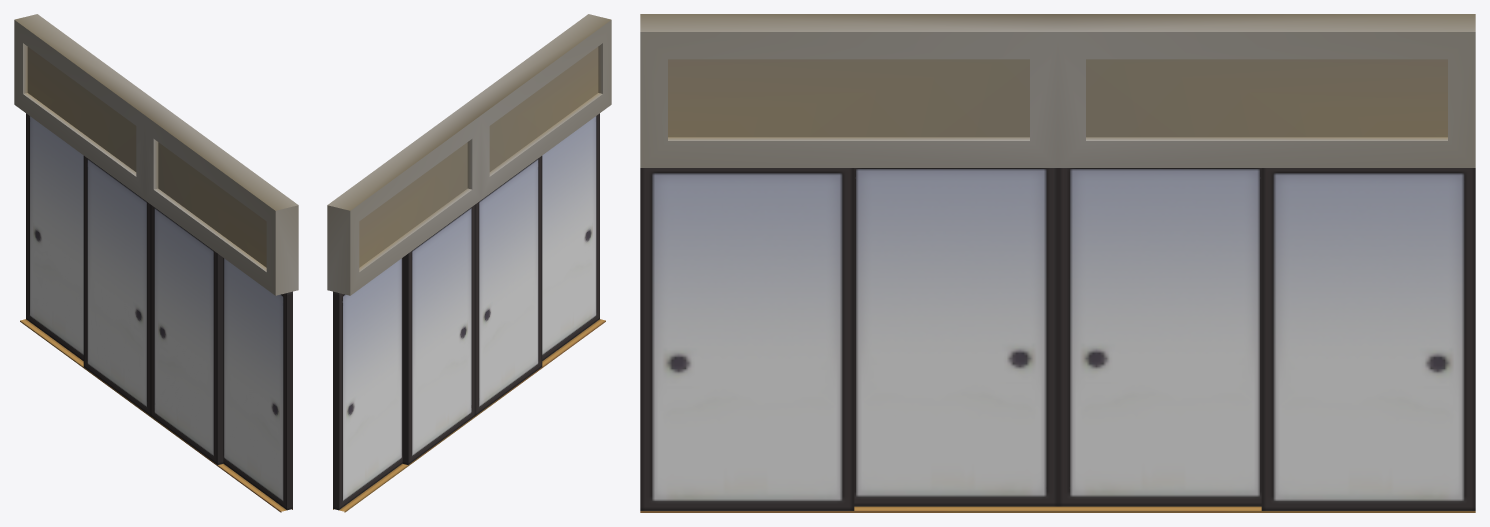
File: husuma_4jyo_01.fbx
The picture shows the model from 3 angles, left to right: view 1: azimuth 30°, elevation 25°; view 2: azimuth 150°, elevation 25°; view 3: azimuth 270°, elevation 25°; orthographic projection. The views are drawn at different scales.
Parts seen in each view (by area): view 1: ranma01, door01, door02, door03, door14; view 2: ranma01, door03, door14, door01, door02; view 3: ranma01, door02, door14, door01, door03.
Boxes of the visible parts, x1,y1,x2,y2 form: ranma01: [14, 14, 298, 512]; door01: [150, 205, 223, 464]; door02: [223, 258, 292, 510]; door03: [83, 156, 150, 415]; door14: [26, 113, 83, 360]; ranma01: [327, 14, 611, 512]; door03: [402, 205, 475, 464]; door14: [333, 258, 402, 510]; door01: [475, 156, 542, 415]; door02: [542, 113, 599, 360]; ranma01: [640, 14, 1475, 512]; door02: [640, 168, 854, 510]; door14: [1261, 168, 1475, 510]; door01: [854, 168, 1057, 506]; door03: [1058, 168, 1261, 506].
Bounding box in the file's own units: 40 × 500 × 780.
